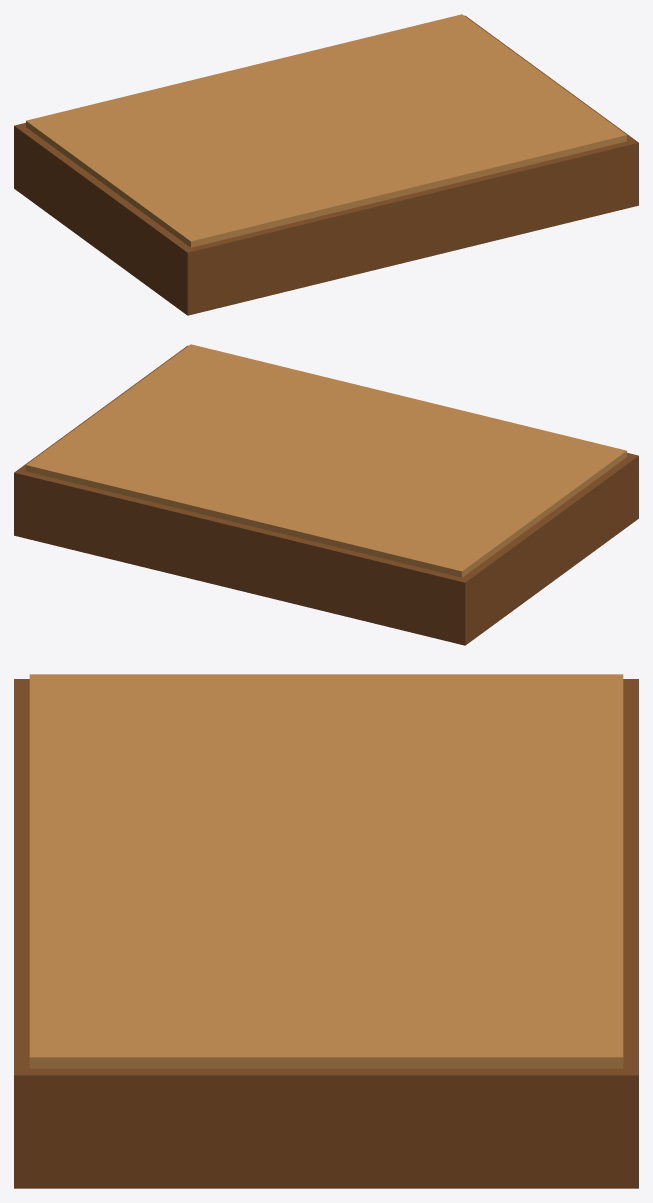
Rendered from stage_platform.fbx.
3 renders of one model, top to bottom at view 1: azimuth 30°, elevation 25°; view 2: azimuth 150°, elevation 25°; view 3: azimuth 270°, elevation 25°, orthographic. The views are drawn at different scales.
Visible parts, largest first — view 1: stage_platform; view 2: stage_platform; view 3: stage_platform.
Boxes of the visible parts, left/top/right/bottom form: stage_platform: left=14, top=14, right=638, bottom=315; stage_platform: left=14, top=344, right=638, bottom=645; stage_platform: left=14, top=674, right=638, bottom=1188.
Size of the model in its own units: 3 by 0.44 by 2.
